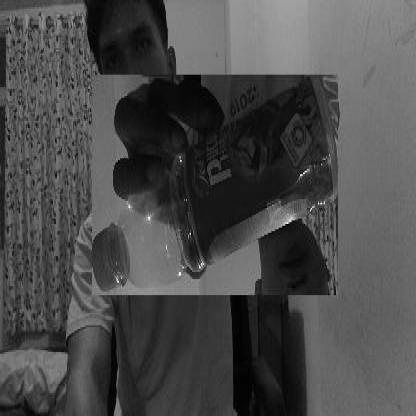plastic_bottles: (93, 75, 338, 295)
